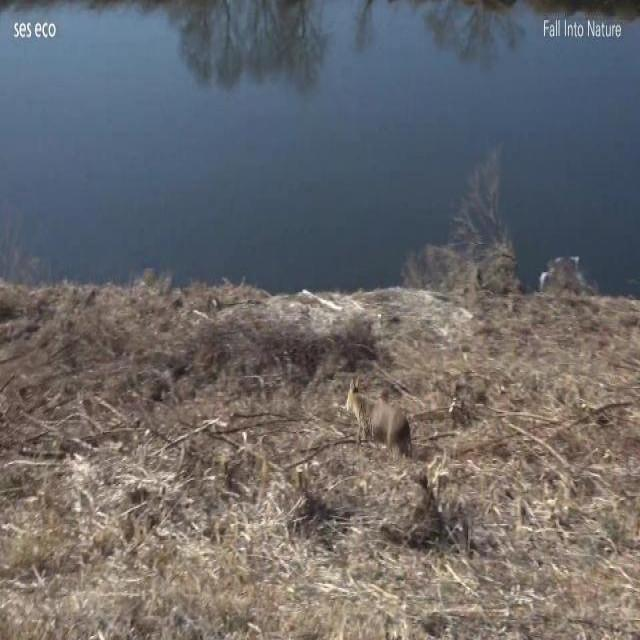deer: (345, 377, 415, 460)
